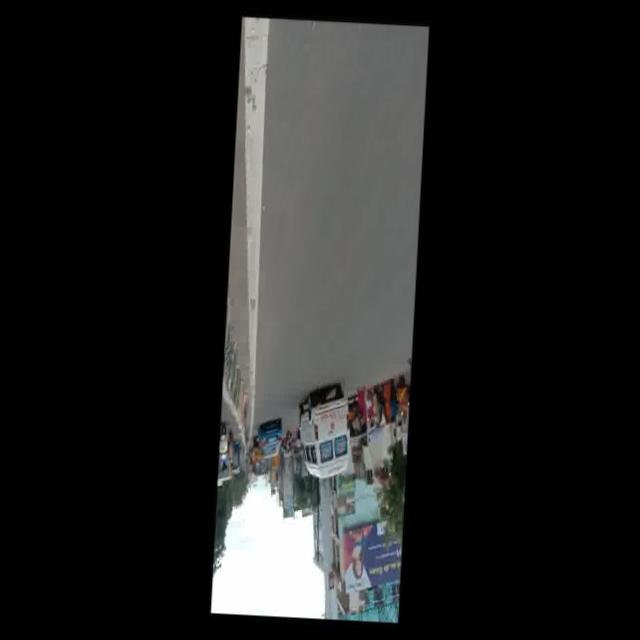ambulance: (295, 388, 352, 482)
